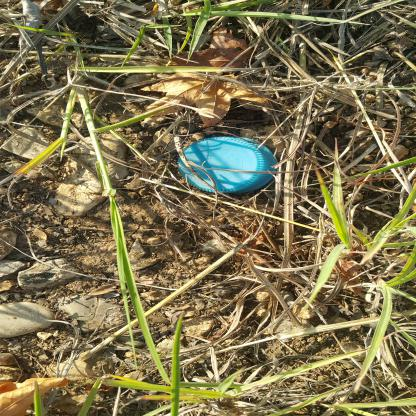plastik: (222, 177, 280, 281)
